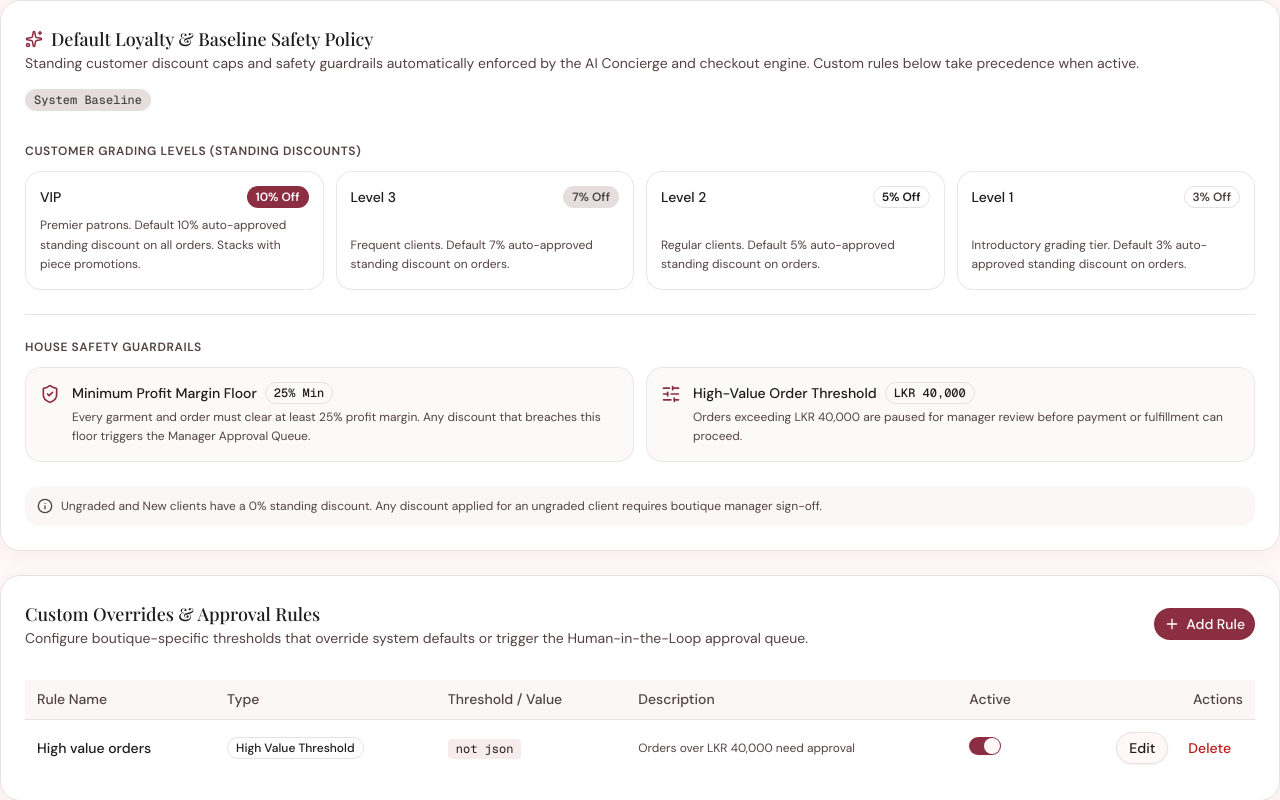
Test: BusinessRulesTable › falls back to the raw payload when a stored value is not the JSON it claims to be
Click the button "Edit". click: (1142, 748)
box: [1116,732,1168,764]
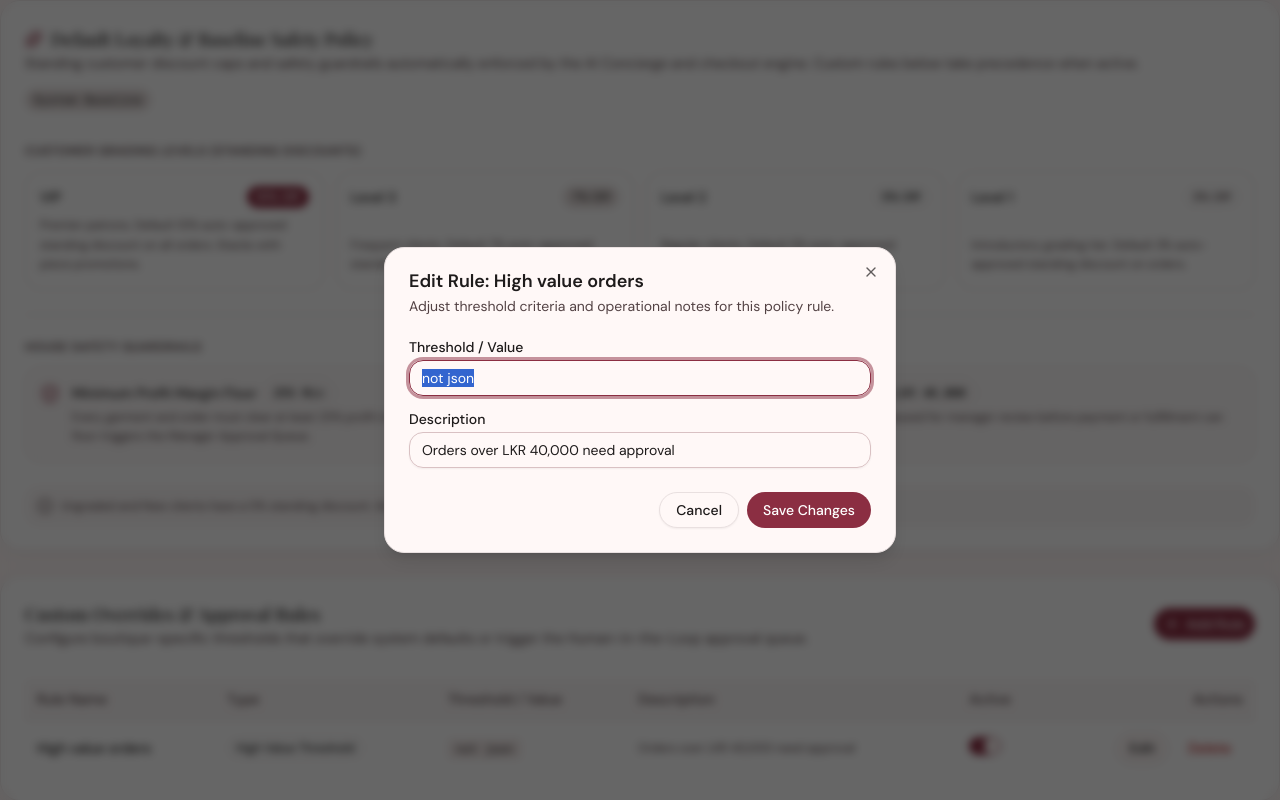
Expected: the field labelled "Threshold / Value" holds "not json", [409,360,871,396]
